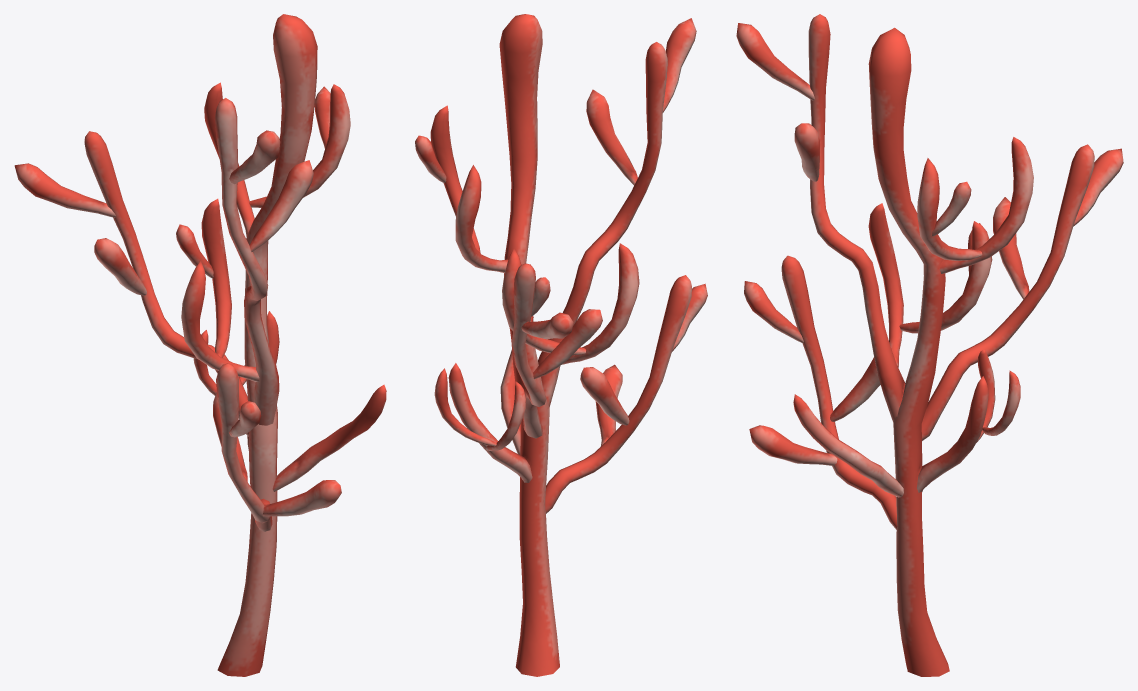
Rendered from Cartoon Seaweed_13-1-33.fbx.
The picture shows the model from 3 angles, left to right: view 1: azimuth 30°, elevation 25°; view 2: azimuth 150°, elevation 25°; view 3: azimuth 270°, elevation 25°; orthographic projection. The views are drawn at different scales.
Parts seen in each view (by area): view 1: Cartoon Seaweed_13.1.33; view 2: Cartoon Seaweed_13.1.33; view 3: Cartoon Seaweed_13.1.33.
Boxes of the visible parts, x1=… form: Cartoon Seaweed_13.1.33: x1=14, y1=14, x2=386, y2=676; Cartoon Seaweed_13.1.33: x1=415, y1=14, x2=707, y2=676; Cartoon Seaweed_13.1.33: x1=736, y1=14, x2=1123, y2=676.
Size of the model in its own units: 9.54 by 25.29 by 13.57.
Materials: 1 (1 with a texture image).
